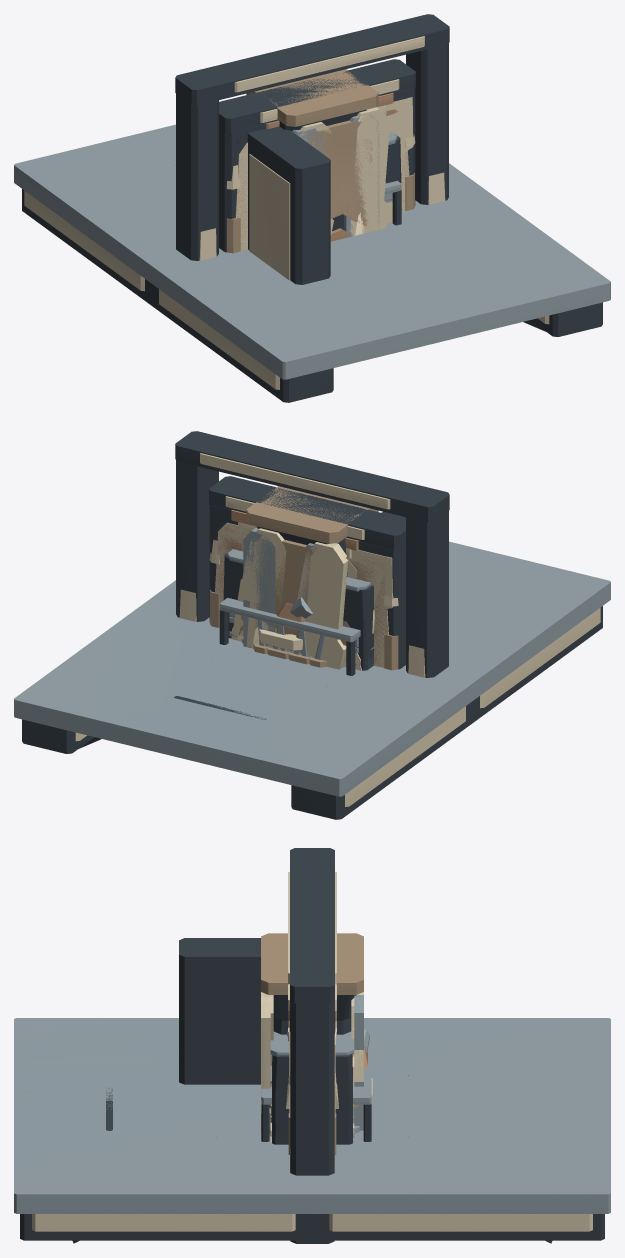
File: Architecture.fbx
3 views of the same model, one above another, from view 1: azimuth 30°, elevation 25°; view 2: azimuth 150°, elevation 25°; view 3: azimuth 270°, elevation 25° (orthographic). The views are drawn at different scales.
Parts seen in each view (by area): view 1: DeckBridge_LOD1_Mount, OpeningMachinery_LOD1_Mount, OpeningCorner_LOD1_Mount, OpeningMachinery_Mount, DeckBridge_Mount, SupportAngled_LOD1_Mount, OpeningPhase_LOD1_Mount, SupportHeavy_Mount, OpeningCorner_Mount, OpeningPhase_Mount, SupportAngled_Mount, WallCore_LOD1_Mount (+6 smaller); view 2: DeckBridge_LOD1_Mount, DeckBridge_Mount, OpeningMachinery_LOD1_Mount, OpeningMachinery_Mount, OpeningPhase_LOD1_Mount, SupportAngled_LOD1_Mount, SupportAngled_Mount, OpeningPhase_Mount, CoverFull_LOD1_Mount, SupportPhase_LOD1_Mount, SupportHeavy_LOD1_Mount, MachineDistribution_LOD1_Mount (+15 smaller); view 3: DeckBridge_LOD1_Mount, DeckBridge_Mount, OpeningMachinery_LOD1_Mount, OpeningCorner_LOD1_Mount, OpeningMachinery_Mount, SupportAngled_LOD1_Mount, CoverFull_LOD1_Mount, SupportAngled_Mount, MachineDistribution_LOD1_Mount, CoverFull_Mount, SupportHeavy_LOD1_Mount, SupportPhase_LOD1_Mount (+3 smaller).
Part boxes in pixels (x1,y1,x2,y2): DeckBridge_LOD1_Mount: (14, 124, 610, 402); OpeningMachinery_LOD1_Mount: (175, 14, 449, 260); OpeningCorner_LOD1_Mount: (247, 126, 330, 284); OpeningMachinery_Mount: (175, 14, 448, 260); DeckBridge_Mount: (14, 127, 610, 401); SupportAngled_LOD1_Mount: (246, 69, 390, 236); OpeningPhase_LOD1_Mount: (219, 59, 415, 253); SupportHeavy_Mount: (307, 110, 372, 241); OpeningCorner_Mount: (249, 156, 289, 279); OpeningPhase_Mount: (219, 59, 415, 249); SupportAngled_Mount: (257, 69, 378, 231); WallCore_LOD1_Mount: (235, 144, 409, 227); DeckBridge_LOD1_Mount: (14, 541, 610, 819); DeckBridge_Mount: (14, 563, 609, 817); OpeningMachinery_LOD1_Mount: (175, 431, 449, 677); OpeningMachinery_Mount: (175, 431, 448, 677); OpeningPhase_LOD1_Mount: (209, 476, 405, 670); SupportAngled_LOD1_Mount: (246, 486, 378, 668); SupportAngled_Mount: (246, 488, 378, 655); OpeningPhase_Mount: (209, 477, 405, 668); CoverFull_LOD1_Mount: (223, 549, 373, 661); SupportPhase_LOD1_Mount: (238, 528, 346, 669); SupportHeavy_LOD1_Mount: (249, 526, 312, 651); MachineDistribution_LOD1_Mount: (219, 597, 360, 675); DeckBridge_LOD1_Mount: (14, 1018, 610, 1243); DeckBridge_Mount: (14, 1018, 610, 1239); OpeningMachinery_LOD1_Mount: (288, 848, 336, 1243); OpeningCorner_LOD1_Mount: (179, 938, 335, 1084); OpeningMachinery_Mount: (288, 848, 335, 1242); SupportAngled_LOD1_Mount: (261, 933, 363, 1100); CoverFull_LOD1_Mount: (270, 1031, 354, 1134); SupportAngled_Mount: (261, 934, 363, 1088); MachineDistribution_LOD1_Mount: (261, 1026, 371, 1141); CoverFull_Mount: (271, 1032, 353, 1134); SupportHeavy_LOD1_Mount: (273, 995, 352, 1034); SupportPhase_LOD1_Mount: (261, 992, 363, 1132).
Bounding box in the file's own units: 5.6 × 3.8 × 8.
